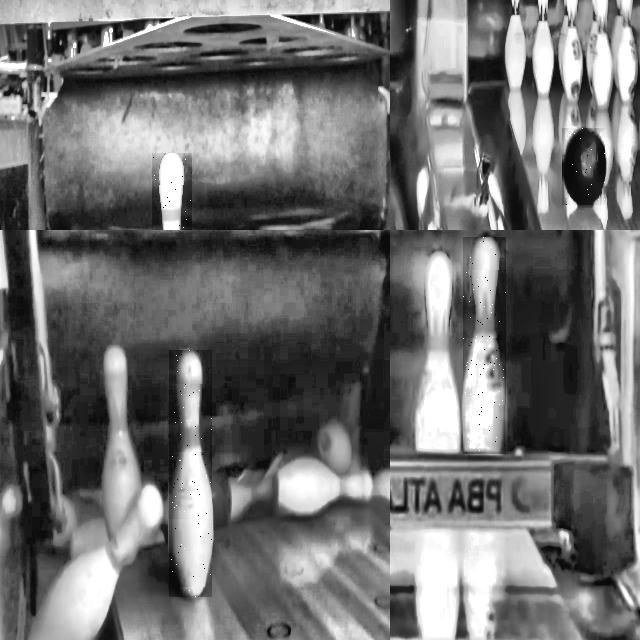bowling-ball: (563, 128, 605, 205)
bowling-pins: (171, 350, 211, 597), (415, 252, 461, 452), (463, 237, 505, 453), (102, 345, 141, 535), (616, 0, 638, 102), (532, 0, 554, 96), (562, 0, 582, 101), (504, 0, 525, 89), (157, 153, 181, 230), (586, 0, 598, 93), (598, 46, 614, 107), (610, 0, 622, 78), (558, 0, 568, 77), (598, 0, 608, 45), (614, 0, 621, 29), (616, 30, 620, 48)
sweep board: (390, 458, 636, 576)
